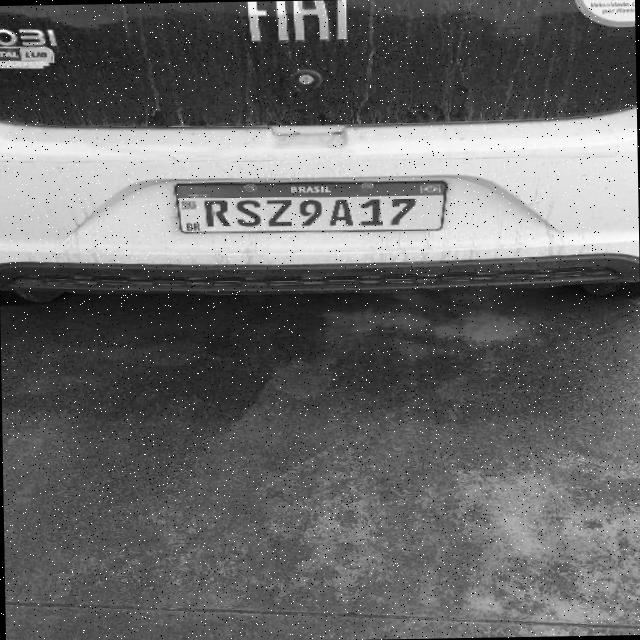placa_mercosul: (174, 180, 448, 232)
